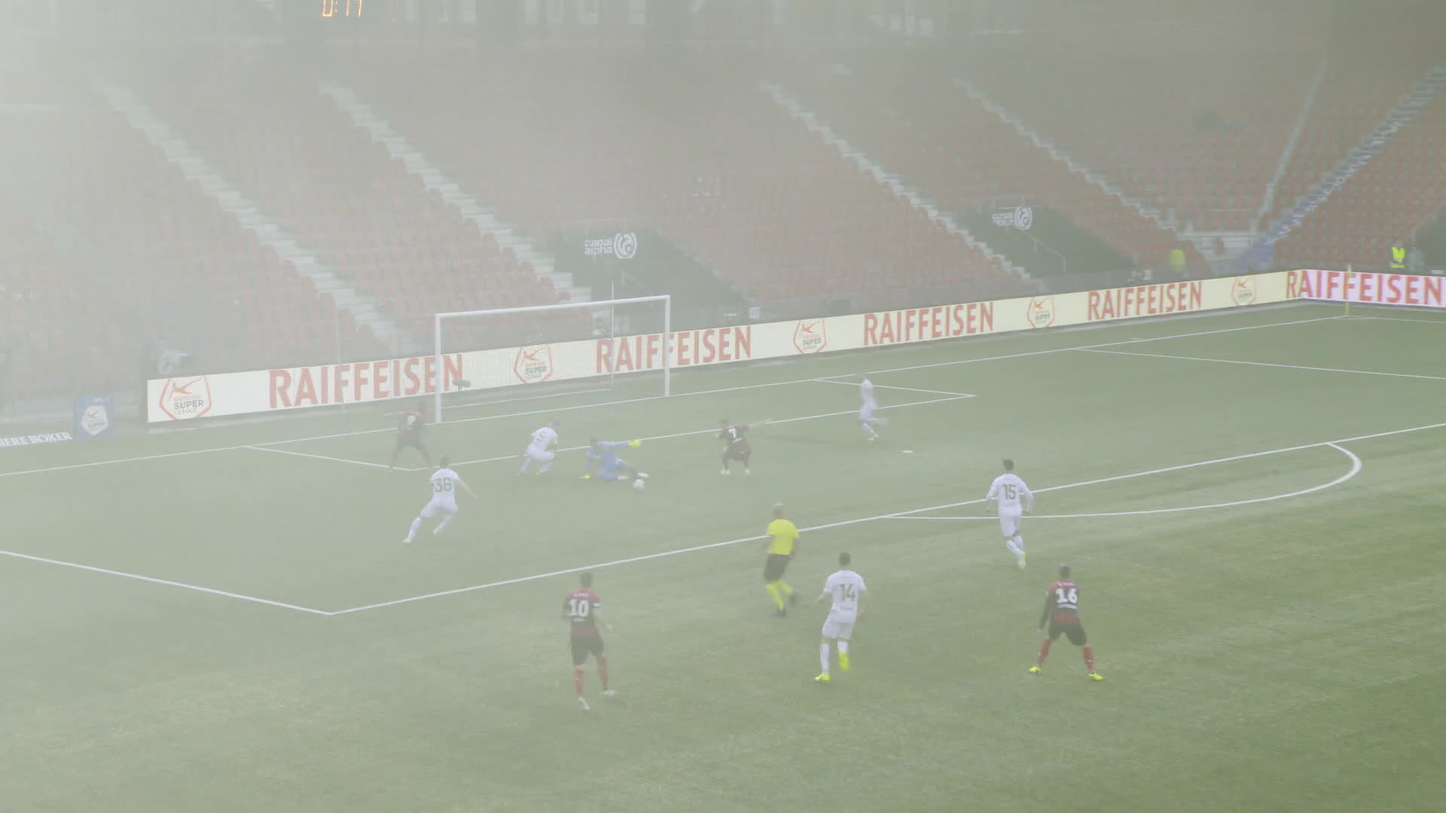ball: (631, 477, 642, 488)
player: (1027, 563, 1103, 681), (559, 570, 618, 712), (809, 550, 869, 681), (401, 455, 477, 545), (983, 456, 1033, 571), (385, 398, 436, 476), (712, 416, 772, 475), (579, 435, 648, 483), (517, 419, 563, 477), (855, 371, 891, 441)
referee: (750, 502, 802, 617)
